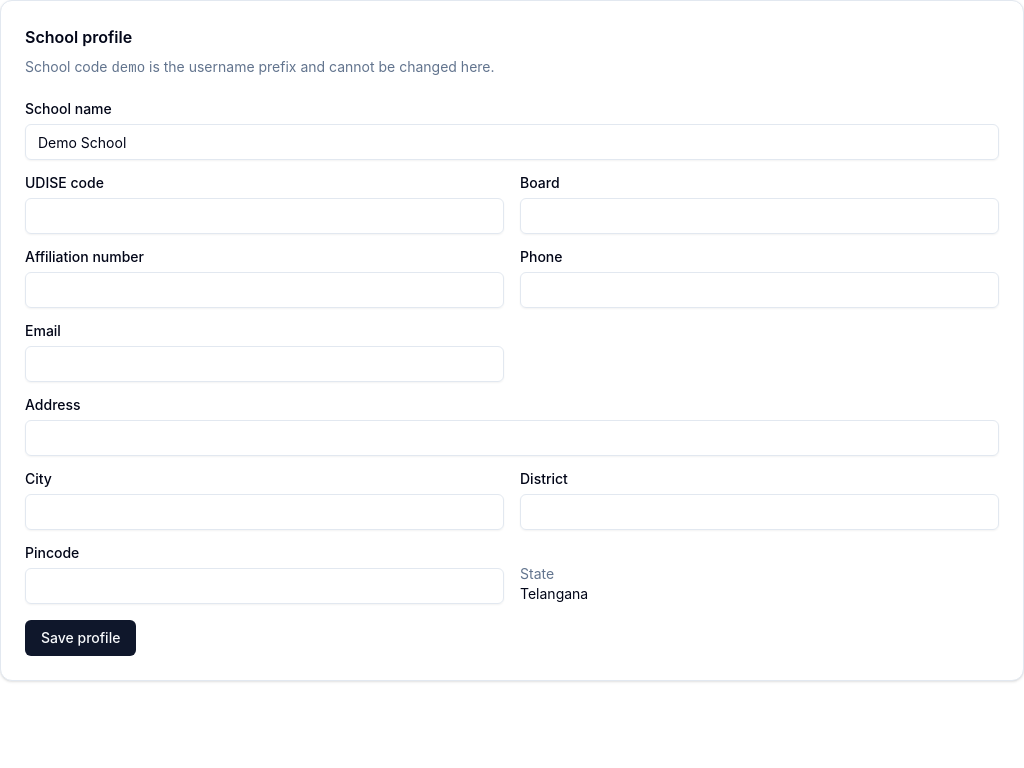
CONFLICT on an edit form reloads the record › school profile: version mismatch → reload, user told, form shows the other change
Step 1. Type "Hyderabad" into the field labelled "City" → (264, 512), box [25,494,504,530]
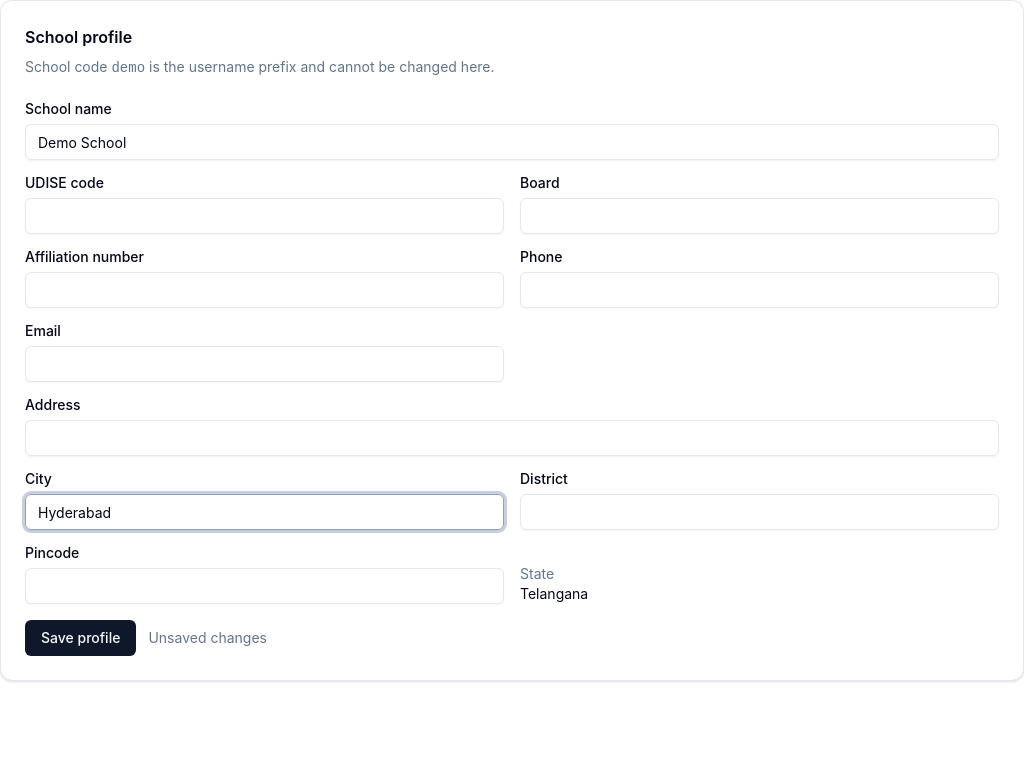
Step 2. Click the button "Save profile" → (81, 638), box [25,620,136,656]
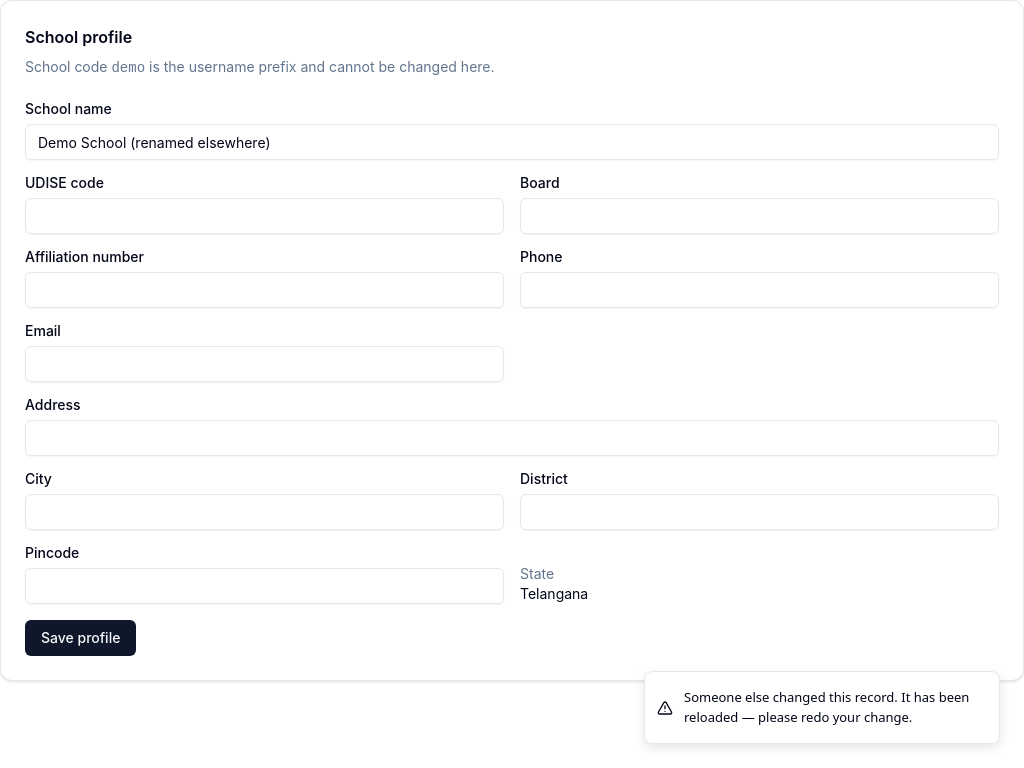
Result: the field showing "Demo School (renamed elsewhere)" is shown at [25,124,999,160]
Result: the text "Someone else changed this record" is shown at [684,688,969,726]
Result: the field labelled "City" is empty at [25,494,504,530]
